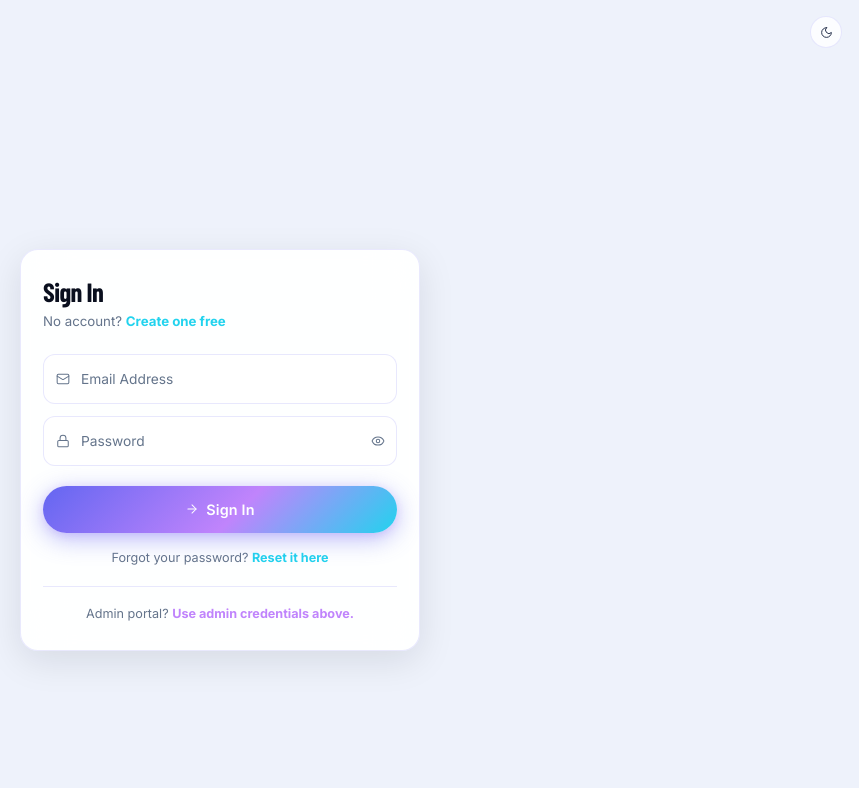
it: LoginForm › Back to Login resets the pending panel
Type "pending@t.com" into the field with id "login-email".
click(220, 378); type("pending@t.com")  # box [43,354,397,404]
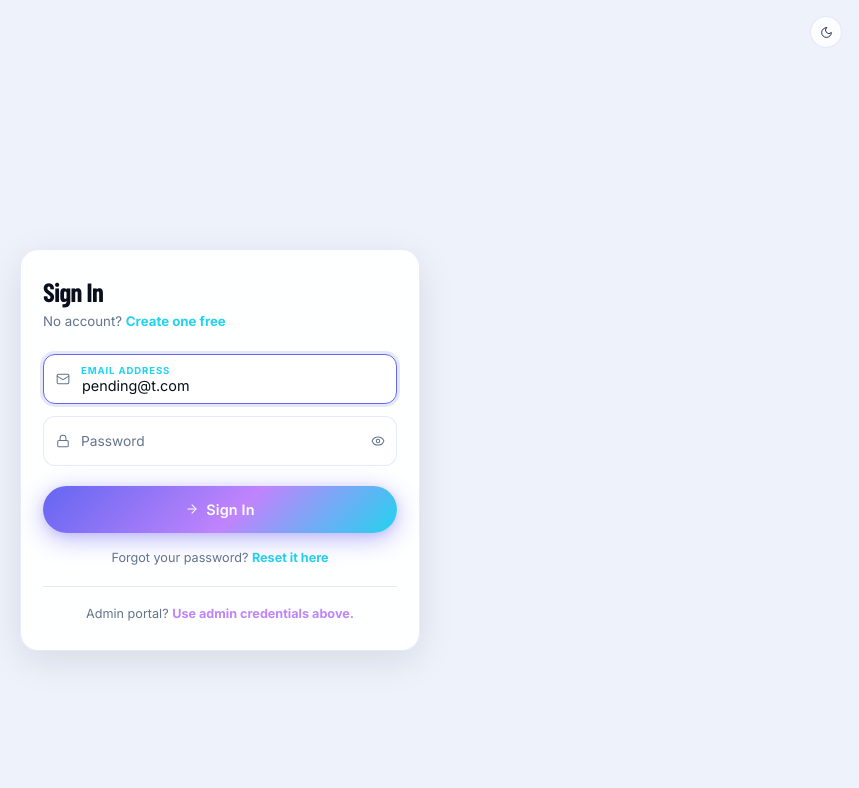
Type "pass1234" into the password field with id "login-pw".
click(220, 440); type("pass1234")  # box [43,416,397,466]
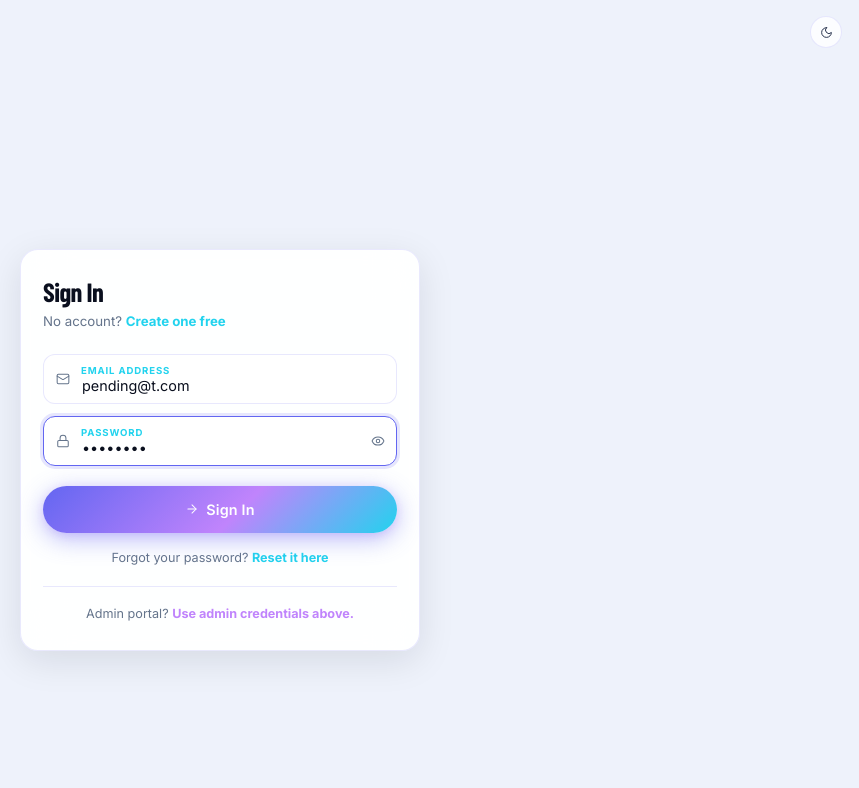
Click the button "Sign In".
click(220, 509)  # box [43,486,397,533]
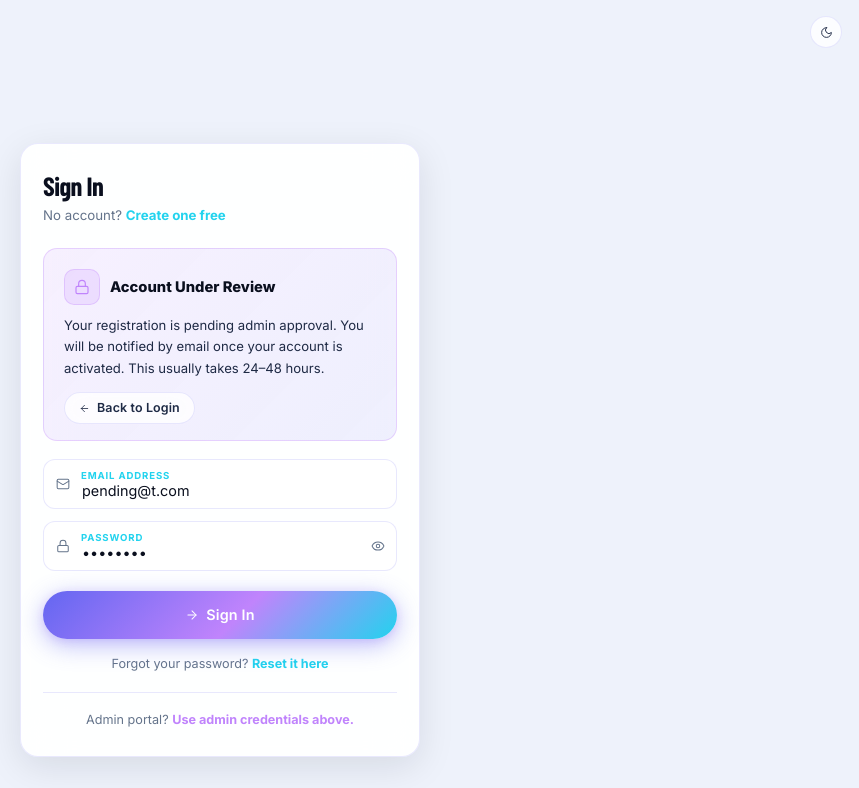
Check: the text "Account Under Review" is shown, box [110,276,276,298]
Click the button "Back to Login".
click(129, 408)  # box [64,392,195,424]
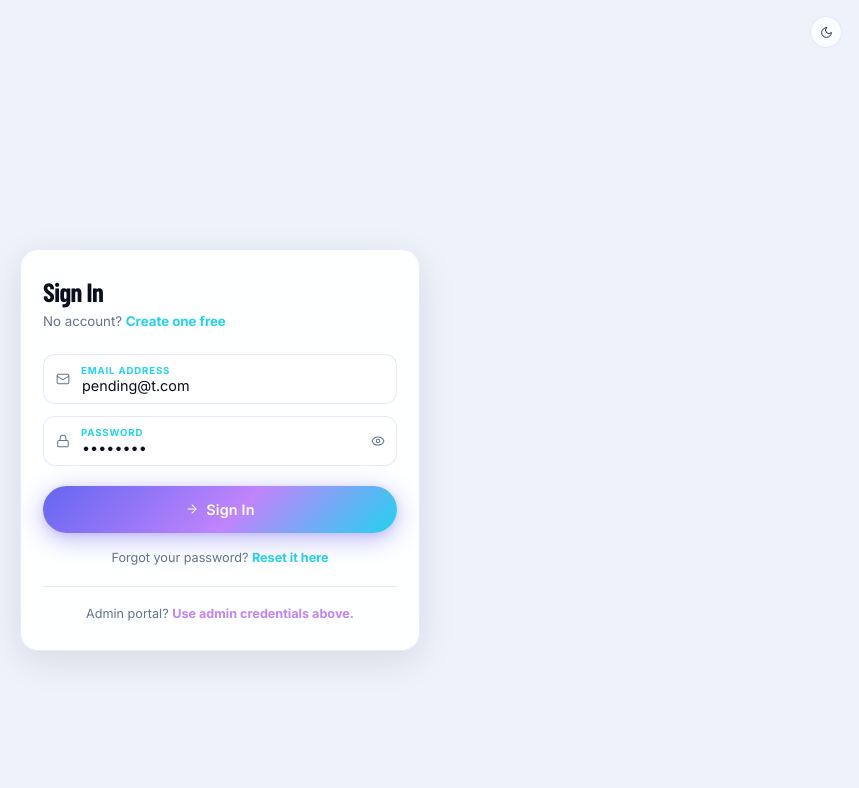
Check: the text "Account Under Review" is gone
